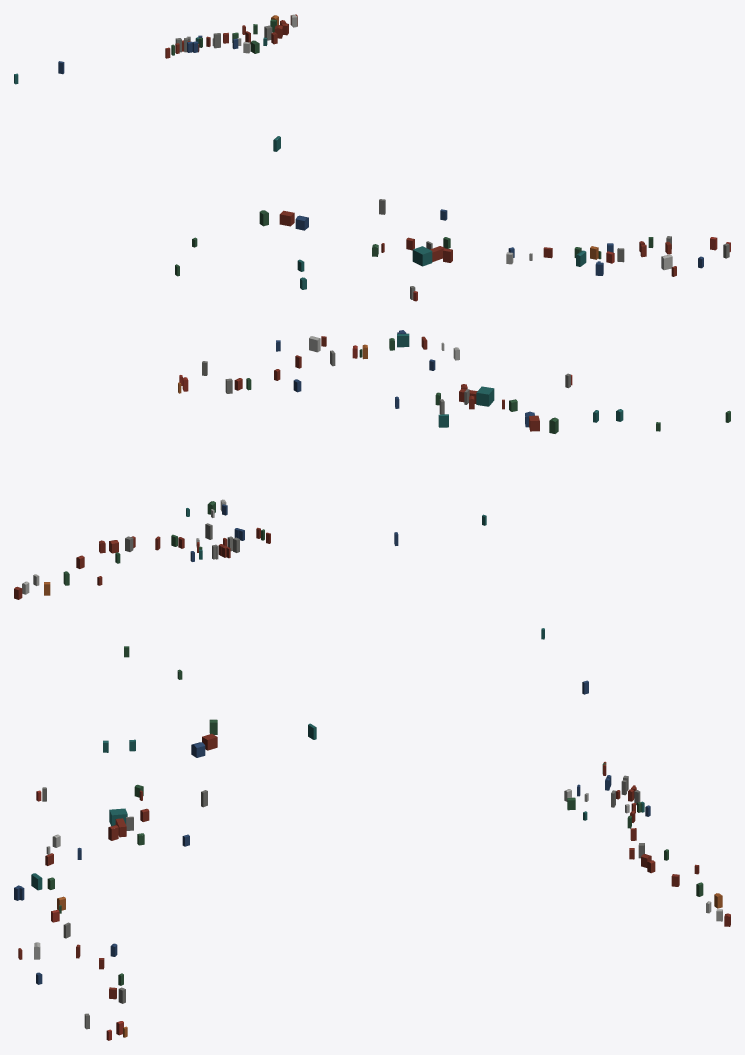
Rendered from near-15-27361-14861.af468cde.glb.
The picture shows the model from 3 angles, top to bottom: view 1: azimuth 30°, elevation 25°; view 2: azimuth 150°, elevation 25°; view 3: azimuth 270°, elevation 25°; orthographic projection. The views are drawn at different scales.
Size of the model in its own units: 1055 by 274 by 1150.
